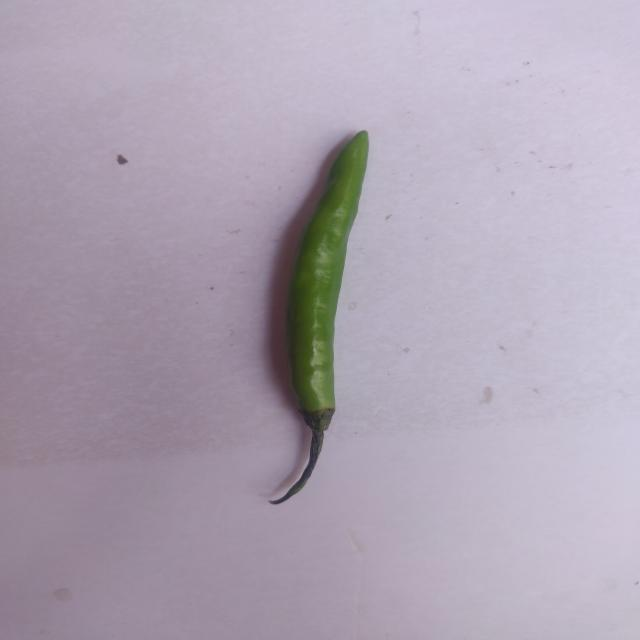Green Chilly: (262, 116, 376, 516)
